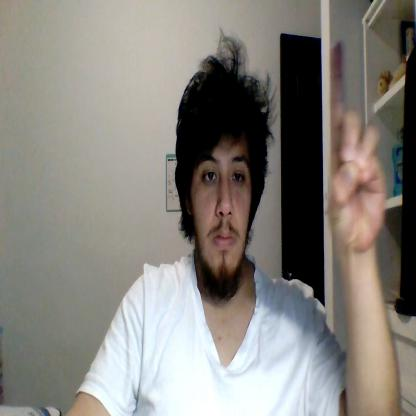D: (326, 43, 384, 254)
